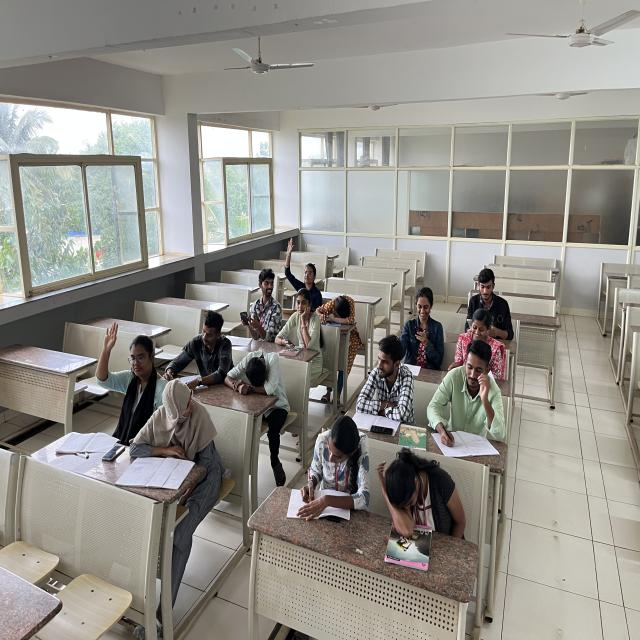Hand Rising: (90, 311, 159, 434), (278, 232, 329, 293)
Sleeping: (372, 457, 464, 566), (227, 342, 290, 412), (316, 290, 362, 333)
Using Phone: (386, 274, 448, 362), (230, 266, 281, 338), (276, 280, 321, 356)
Writing: (423, 338, 511, 450), (294, 413, 372, 530)
